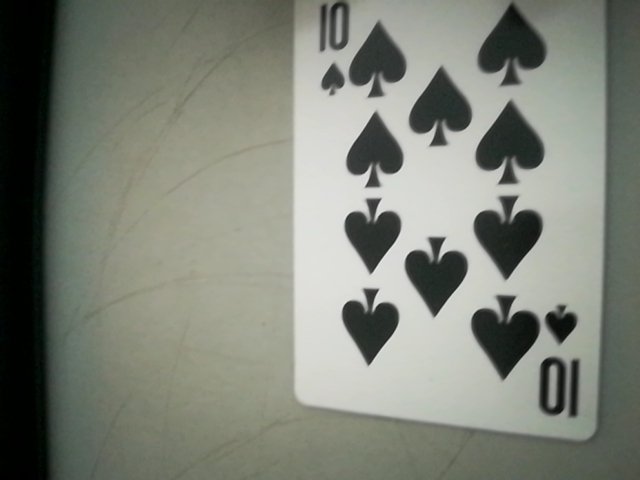ht 10: (529, 304, 588, 429)
